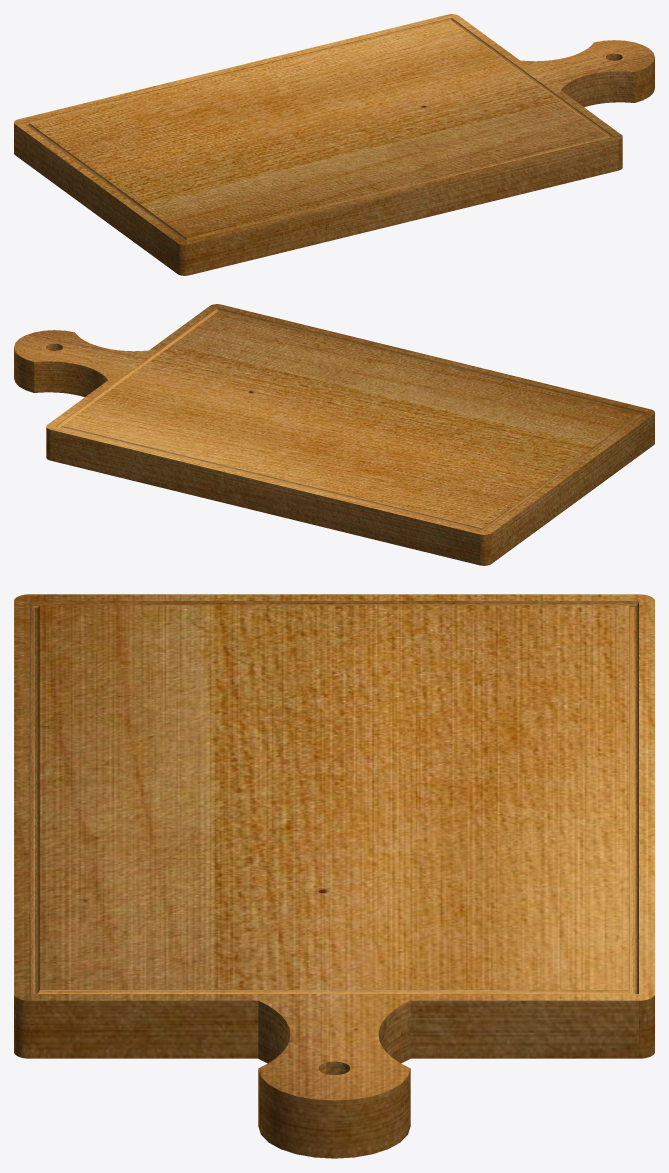
File: kitchen_cutter.dae
3 renders of one model, top to bottom at view 1: azimuth 30°, elevation 25°; view 2: azimuth 150°, elevation 25°; view 3: azimuth 270°, elevation 25°, orthographic. The views are drawn at different scales.
Parts seen in each view (by area): view 1: Cutting_Board (×2); view 2: Cutting_Board (×2); view 3: Cutting_Board (×2).
Part boxes in pixels (x1,y1,x2,y2): Cutting_Board (×2): (14, 14, 654, 275); Cutting_Board (×2): (14, 304, 654, 565); Cutting_Board (×2): (14, 594, 654, 1158).
Size of the model in its own units: 14.71 by 7.87 by 0.7874.
Materials: 1 (1 with a texture image).
